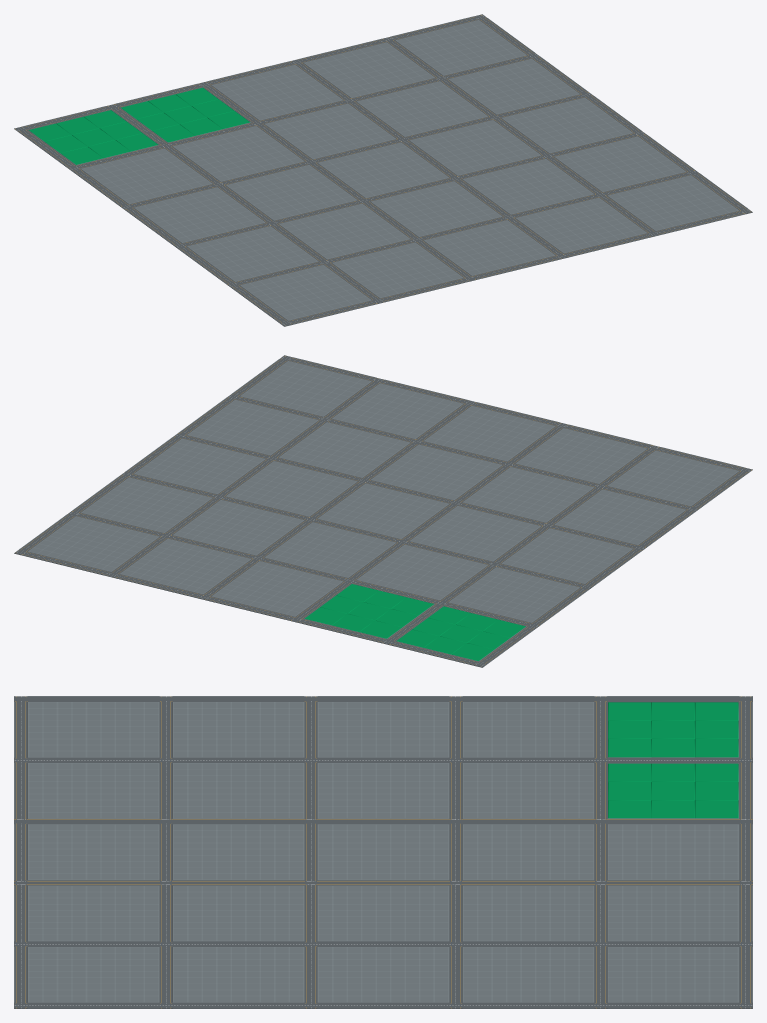
File: city_park_ground.fbx
The picture shows the model from 3 angles, top to bottom: view 1: azimuth 30°, elevation 25°; view 2: azimuth 150°, elevation 25°; view 3: azimuth 270°, elevation 25°; orthographic projection. The views are drawn at different scales.
Visible parts, largest first — view 1: road_junction_rj_0_0; view 2: road_junction_rj_0_0; view 3: road_junction_rj_0_0.
Part boxes in pixels (box(x1,y1,x2,y2)): road_junction_rj_0_0: box(14, 14, 752, 326); road_junction_rj_0_0: box(14, 355, 752, 667); road_junction_rj_0_0: box(14, 696, 752, 1008).
Size of the model in its own units: 10200 by 100 by 10200.
Materials: 4 (4 with a texture image).
